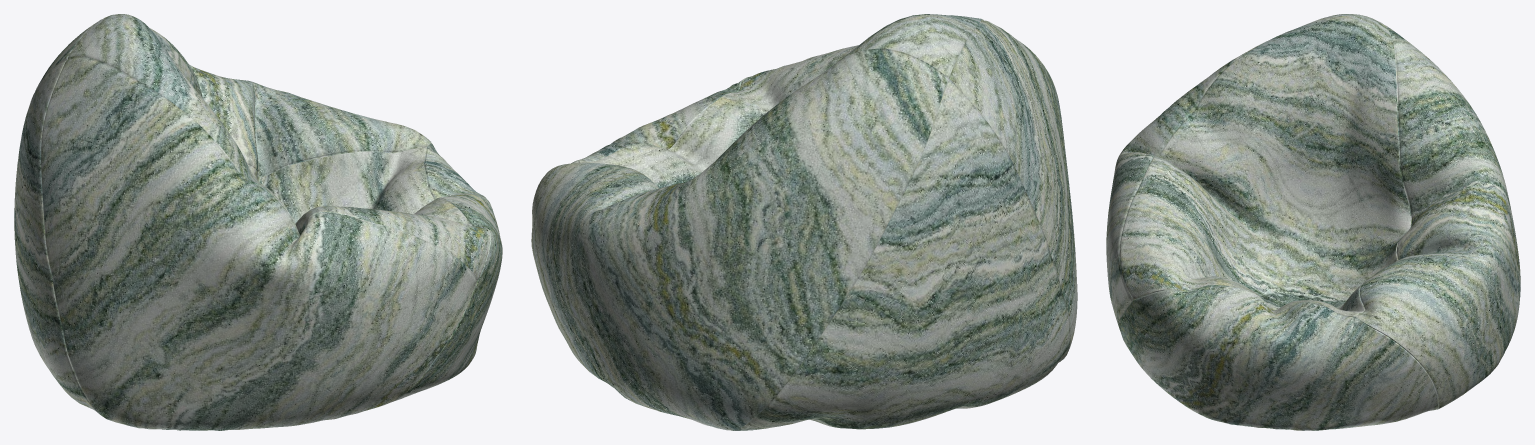
Rendered from Chair_1.glb.
The picture shows the model from 3 angles, left to right: view 1: azimuth 30°, elevation 25°; view 2: azimuth 150°, elevation 25°; view 3: azimuth 270°, elevation 25°; orthographic projection. The views are drawn at different scales.
Parts seen in each view (by area): view 1: bean_bag_chair_mesh_n3d; view 2: bean_bag_chair_mesh_n3d; view 3: bean_bag_chair_mesh_n3d.
Part boxes in pixels (<box>): bean_bag_chair_mesh_n3d: <box>14,14,502,430</box>; bean_bag_chair_mesh_n3d: <box>531,14,1077,430</box>; bean_bag_chair_mesh_n3d: <box>1106,14,1520,430</box>.
Bounding box in the file's own units: 0.1314 × 0.1002 × 0.1282.
Materials: 1 (1 with a texture image).
